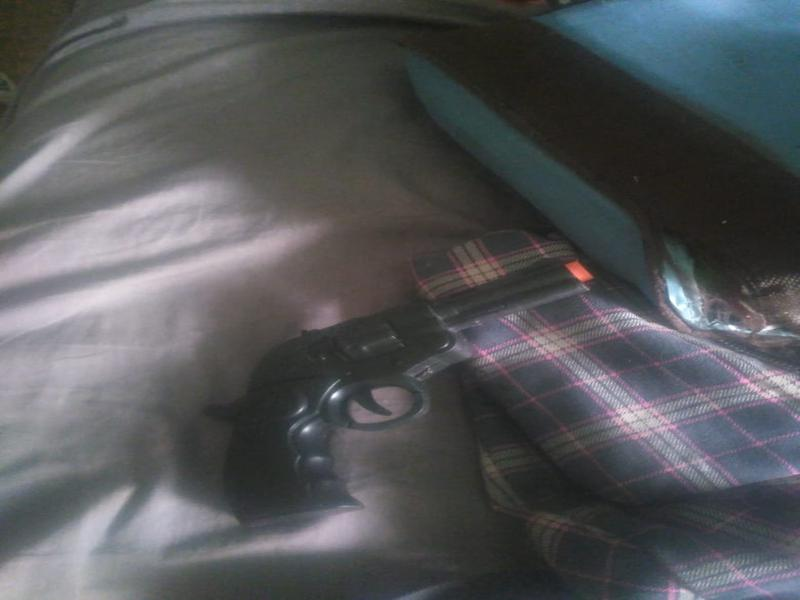gun: (196, 232, 598, 530)
